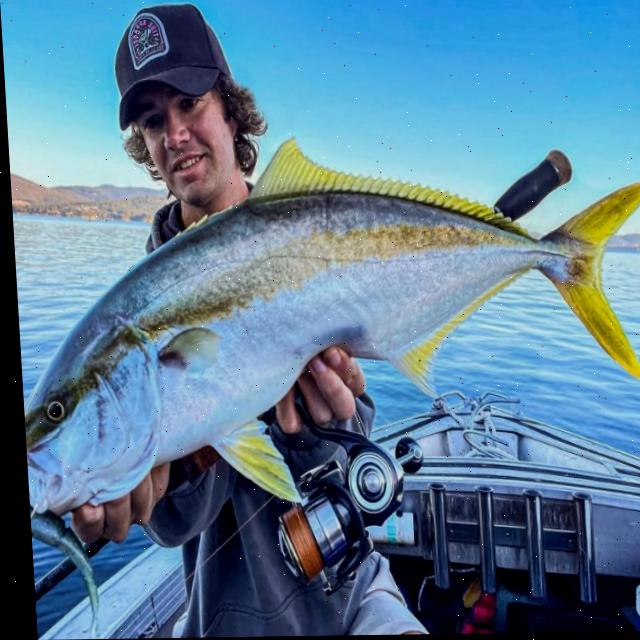Kingfish: (6, 126, 640, 521)
